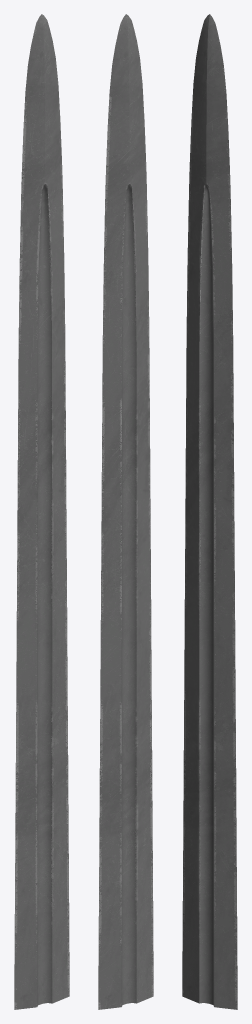
Rendered from wm_swan_knight_sword_a_blade.fbx.
The picture shows the model from 3 angles, left to right: view 1: azimuth 30°, elevation 25°; view 2: azimuth 210°, elevation 25°; view 3: azimuth 330°, elevation 25°; orthographic projection.
Visible parts, largest first — view 1: wm_swan_knight_sword_a_blade; view 2: wm_swan_knight_sword_a_blade; view 3: wm_swan_knight_sword_a_blade.
Part boxes in pixels (<box>): wm_swan_knight_sword_a_blade: <box>14,14,69,1009</box>; wm_swan_knight_sword_a_blade: <box>98,14,153,1009</box>; wm_swan_knight_sword_a_blade: <box>182,14,237,1009</box>.
Bounding box in the file's own units: 0.0617 × 0.0129 × 1.05.
Materials: 1 (1 with a texture image).
